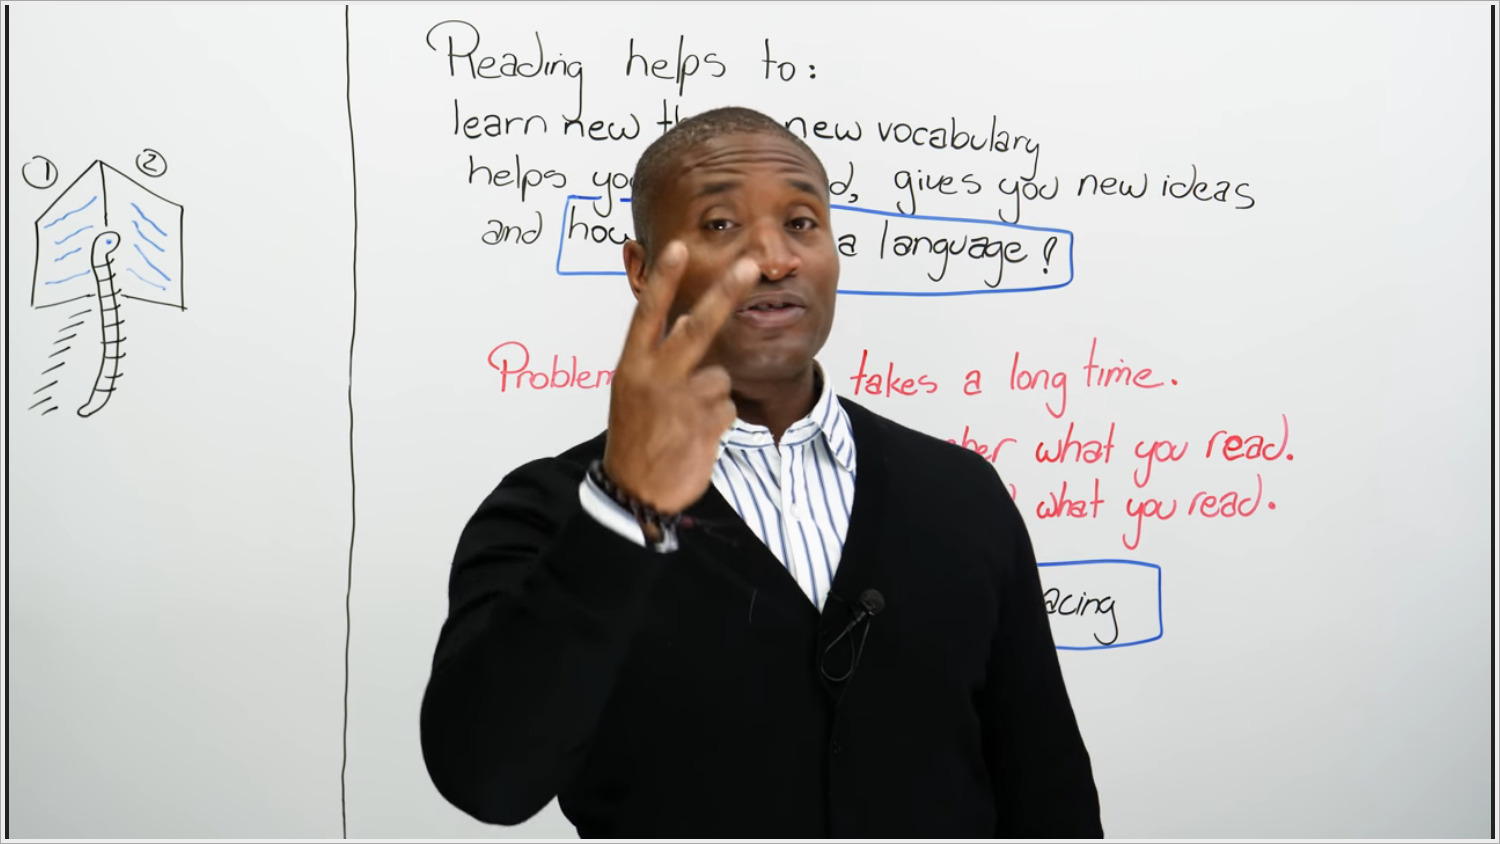hand: (596, 234, 766, 515)
